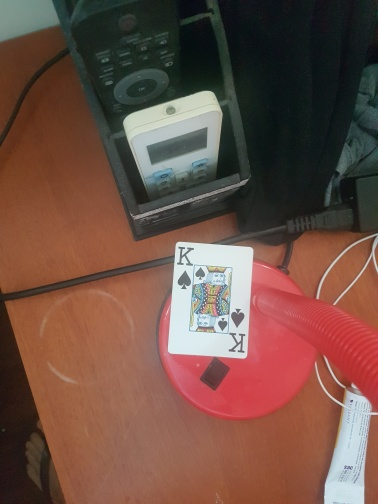king: (166, 240, 253, 360)
